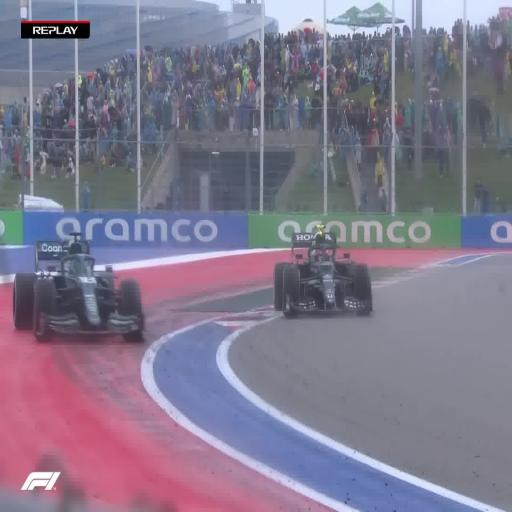f1_car: (13, 233, 144, 340), (274, 225, 372, 316)
